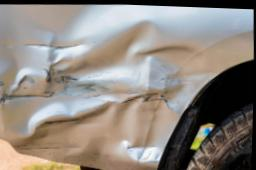Bumper: (0, 8, 220, 170)
